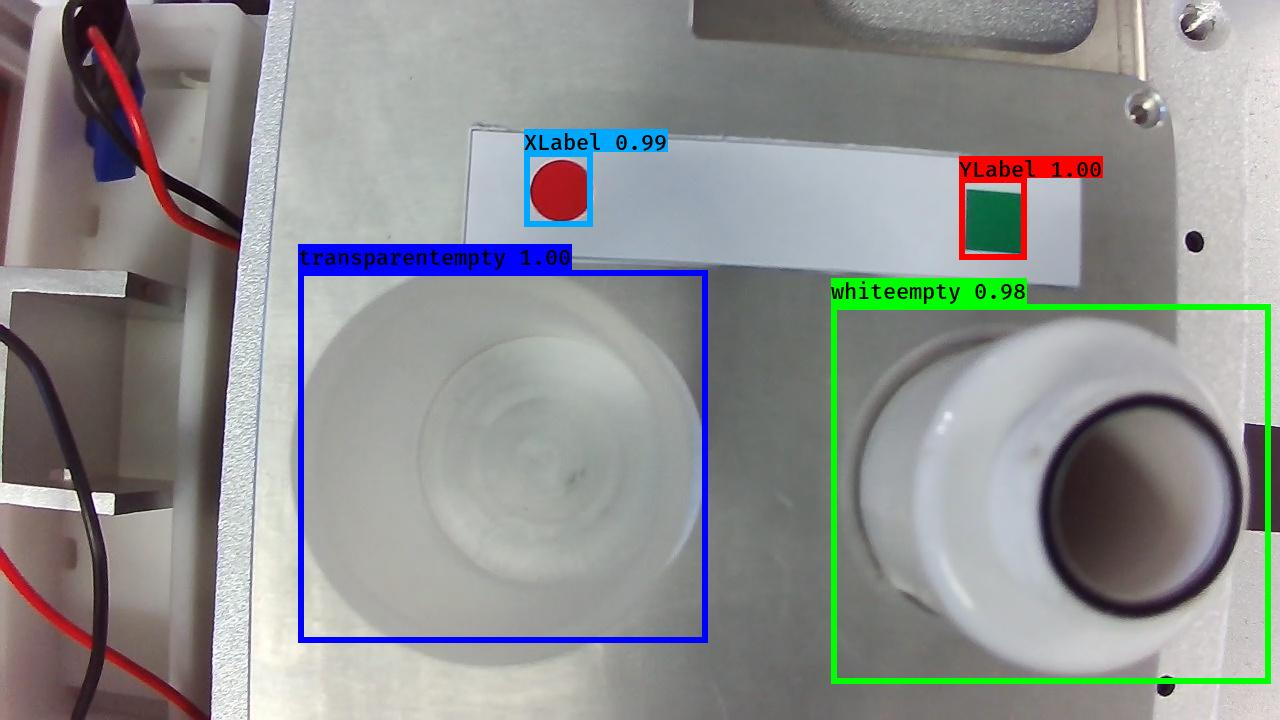XLabel: (526, 155, 594, 224)
YLabel: (961, 187, 1029, 258)
transparentempty: (278, 260, 713, 677)
whiteempty: (848, 315, 1251, 680)
